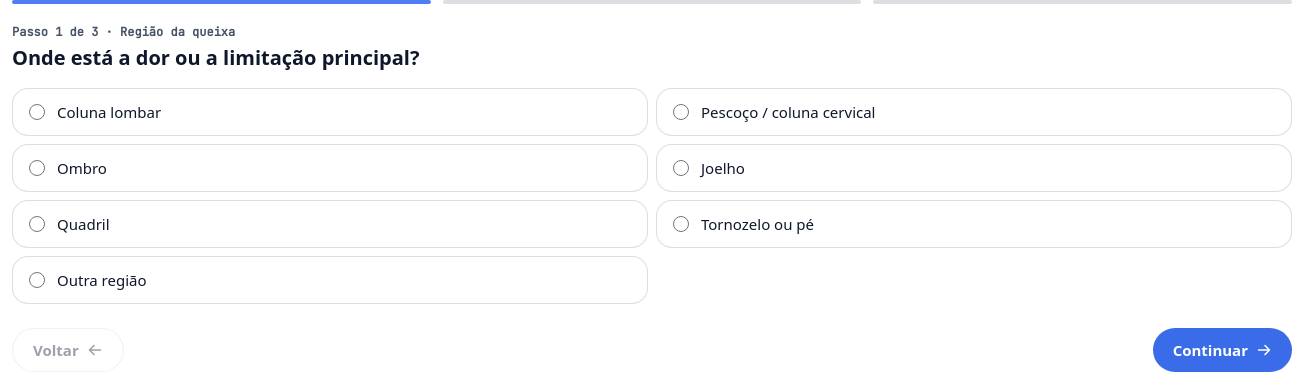
Test: <TriageFlow /> › permite voltar e trocar a resposta mantendo as anteriores
Click the radio button labelled "Ombro" at (37, 168), box [29,160,45,176]
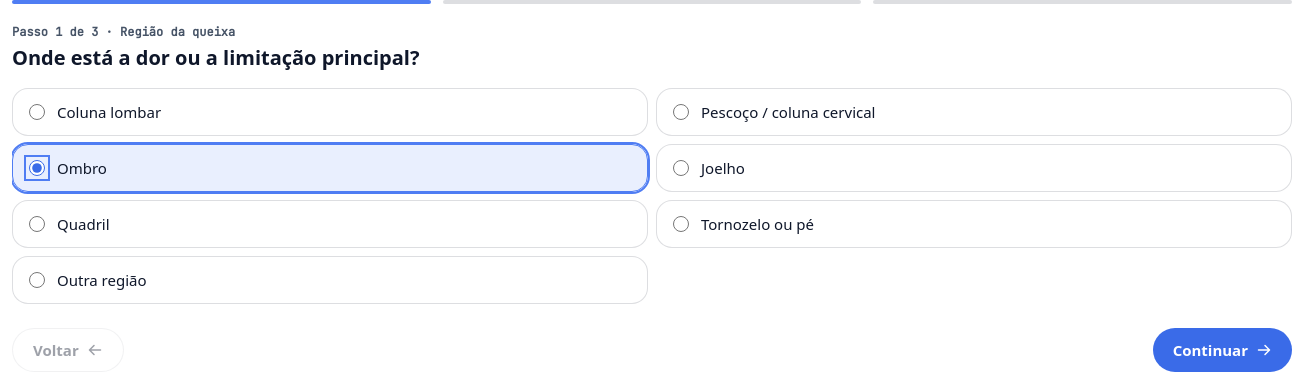
Click the button "Continuar" at (1222, 350), box [1153,328,1292,372]
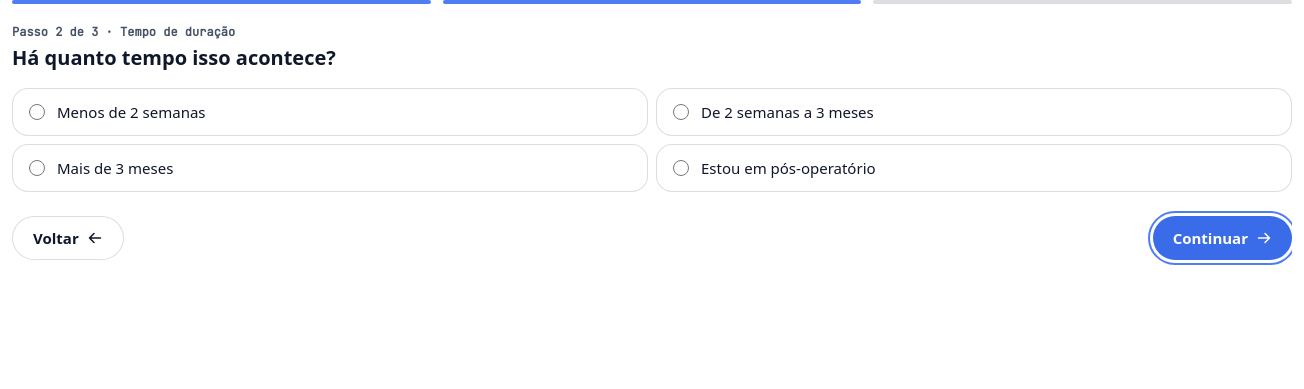
Click the button "Voltar" at (68, 238), box [12,216,124,260]
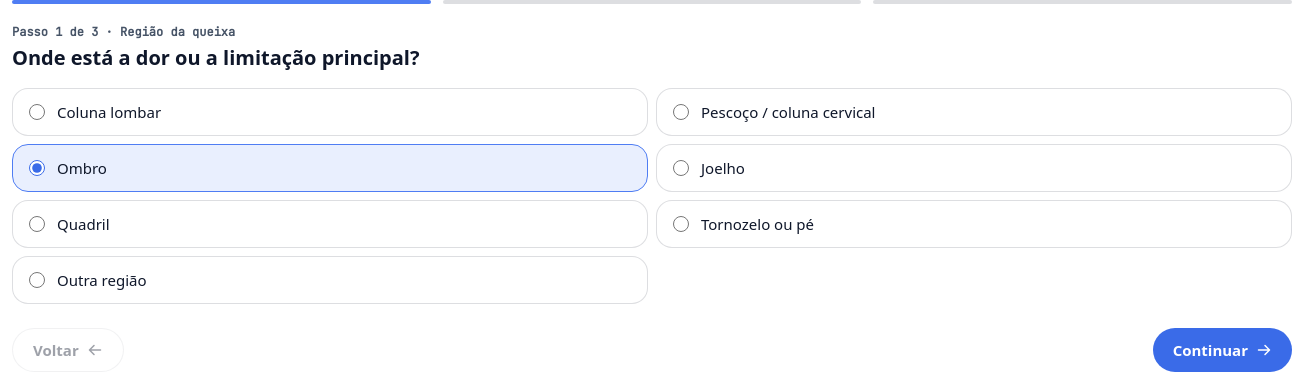
Expected: the radio button labelled "Ombro" is checked, [29,160,45,176]
